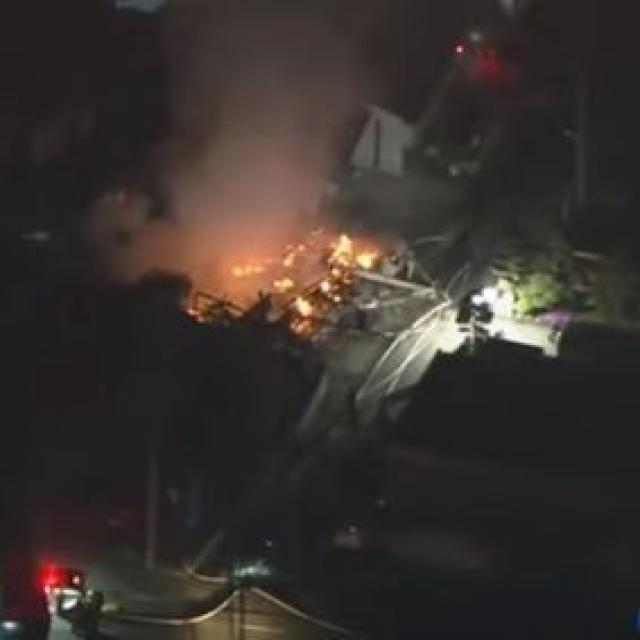Smoke: (139, 8, 404, 344)
